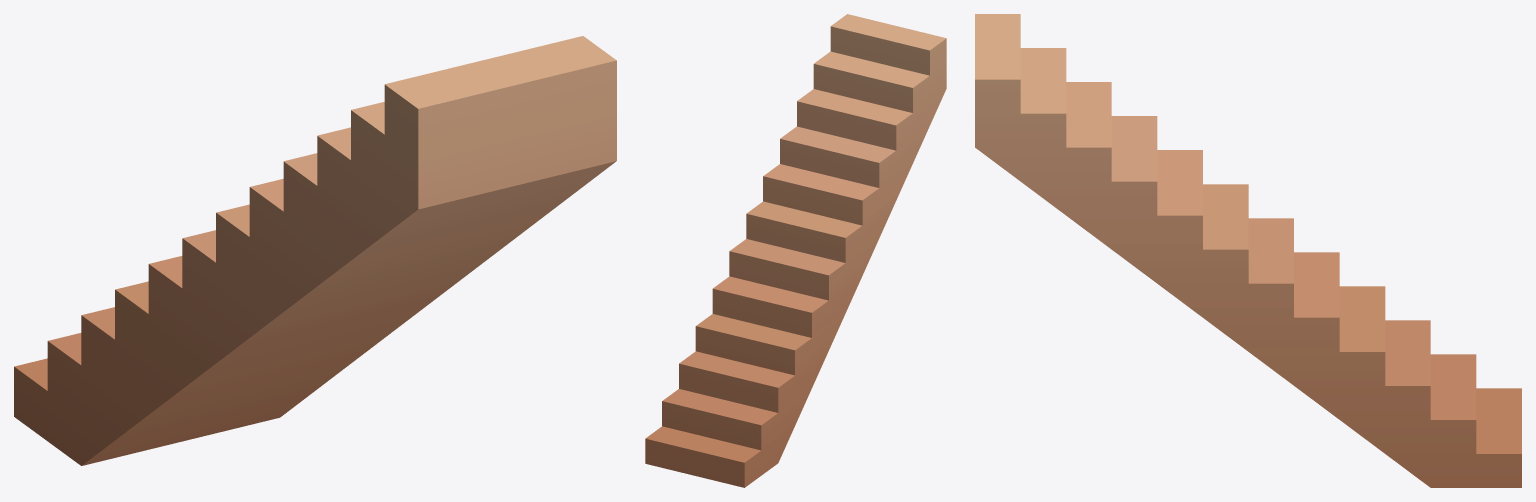
File: stairs-stone.glb
3 renders of one model, left to right at view 1: azimuth 30°, elevation 25°; view 2: azimuth 150°, elevation 25°; view 3: azimuth 270°, elevation 25°, orthographic. The views are drawn at different scales.
Visible parts, largest first — view 1: stairs-stone; view 2: stairs-stone; view 3: stairs-stone.
Boxes of the visible parts, x1=… form: stairs-stone: x1=14, y1=36, x2=616, y2=465; stairs-stone: x1=645, y1=14, x2=946, y2=487; stairs-stone: x1=975, y1=14, x2=1521, y2=487.
Size of the model in its own units: 0.2325 by 0.675 by 0.819.
Materials: 1 (1 with a texture image).
